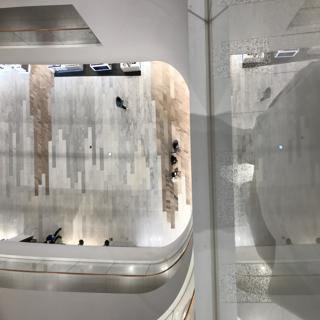person: (110, 91, 134, 114), (168, 157, 184, 189), (167, 134, 184, 156)
